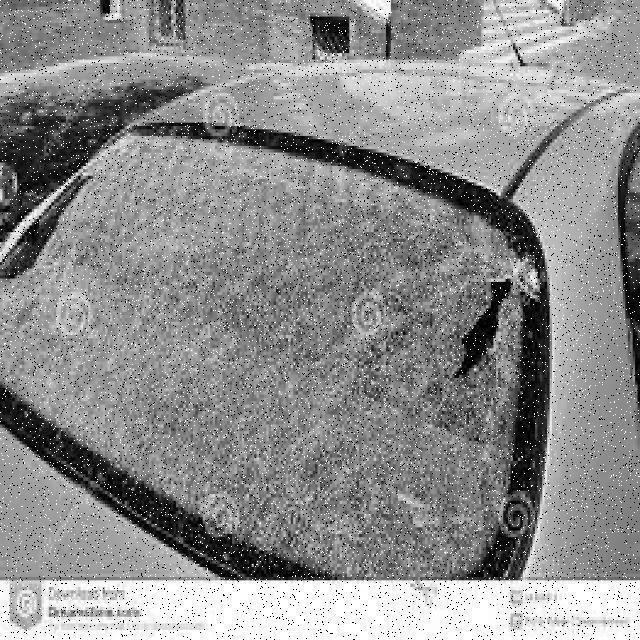Rear-windscreen-Damage: (0, 140, 588, 601)
